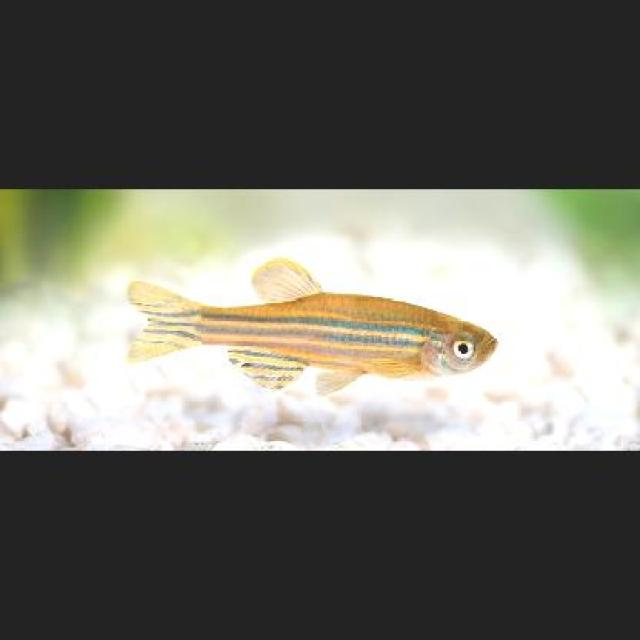ZebraFish: (127, 255, 498, 394)
